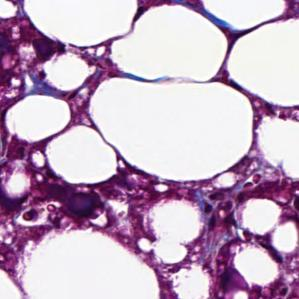inflammation: (200, 188, 241, 233), (15, 203, 52, 228)
